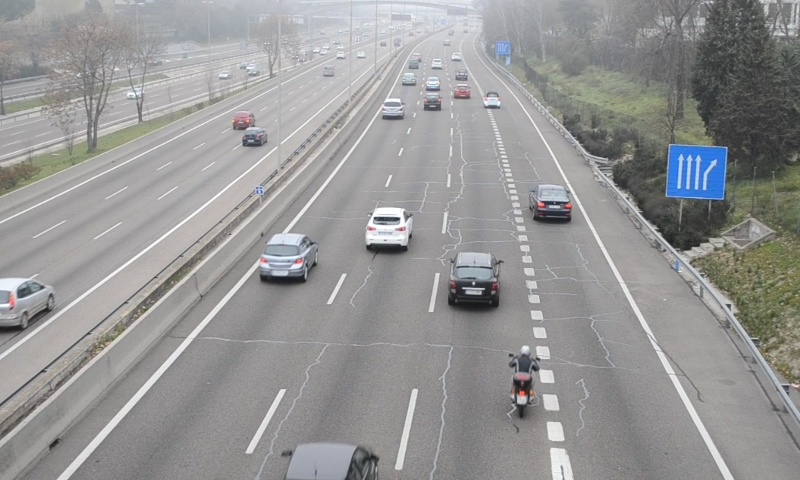car: (282, 443, 379, 480), (258, 234, 317, 280), (448, 252, 498, 306), (364, 207, 412, 249), (530, 183, 572, 220), (380, 97, 406, 120), (482, 90, 501, 108), (423, 92, 441, 110), (454, 82, 472, 99), (424, 76, 441, 92)
motorcycle: (505, 344, 542, 421)
